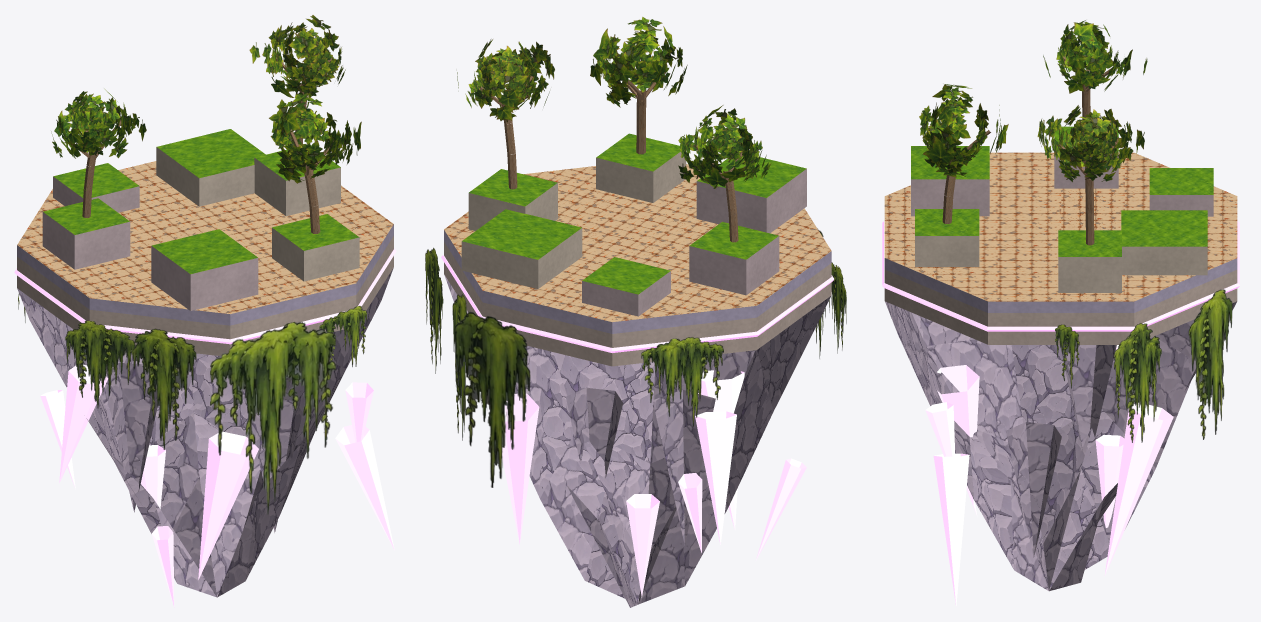
Rendered from SKY_ISLAND_05.glb.
3 renders of one model, left to right at view 1: azimuth 30°, elevation 25°; view 2: azimuth 150°, elevation 25°; view 3: azimuth 270°, elevation 25°, orthographic. The views are drawn at different scales.
Visible parts, largest first — view 1: S_Small17_Skin.001, S_Small17_Moss.001, S_Small17_Trees.001, S_Small17_Crystals.001; view 2: S_Small17_Skin.001, S_Small17_Trees.001, S_Small17_Moss.001, S_Small17_Crystals.001; view 3: S_Small17_Skin.001, S_Small17_Trees.001, S_Small17_Crystals.001, S_Small17_Moss.001.
Boxes of the visible parts, x1,y1,x2,y2 form: S_Small17_Skin.001: (14, 129, 396, 597); S_Small17_Moss.001: (18, 293, 366, 514); S_Small17_Trees.001: (51, 15, 361, 233); S_Small17_Crystals.001: (40, 364, 394, 607); S_Small17_Skin.001: (441, 133, 834, 607); S_Small17_Trees.001: (457, 17, 771, 242); S_Small17_Moss.001: (425, 228, 846, 487); S_Small17_Crystals.001: (502, 370, 806, 597); S_Small17_Skin.001: (882, 126, 1239, 591); S_Small17_Trees.001: (919, 20, 1147, 245); S_Small17_Crystals.001: (925, 345, 1173, 606); S_Small17_Moss.001: (1055, 289, 1232, 442).
Bounding box in the file's own units: 12.83 × 18.79 × 11.67.
Materials: 9 (7 with a texture image).
